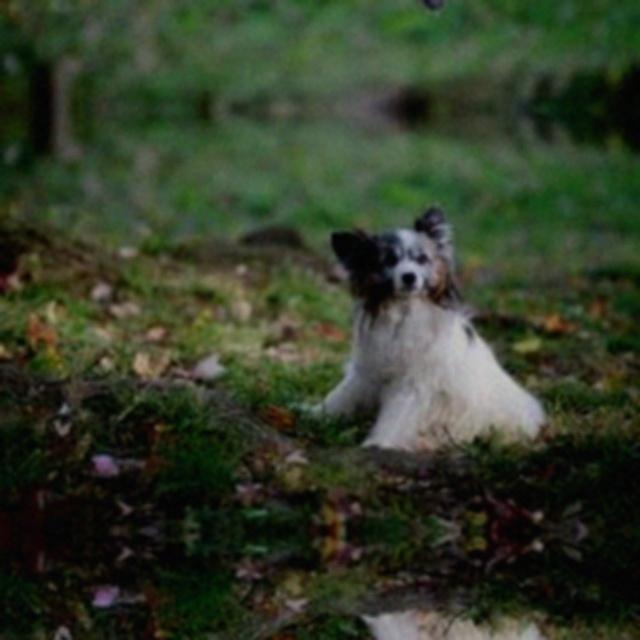dog: (296, 176, 548, 440), (297, 0, 548, 39), (297, 620, 548, 640)
